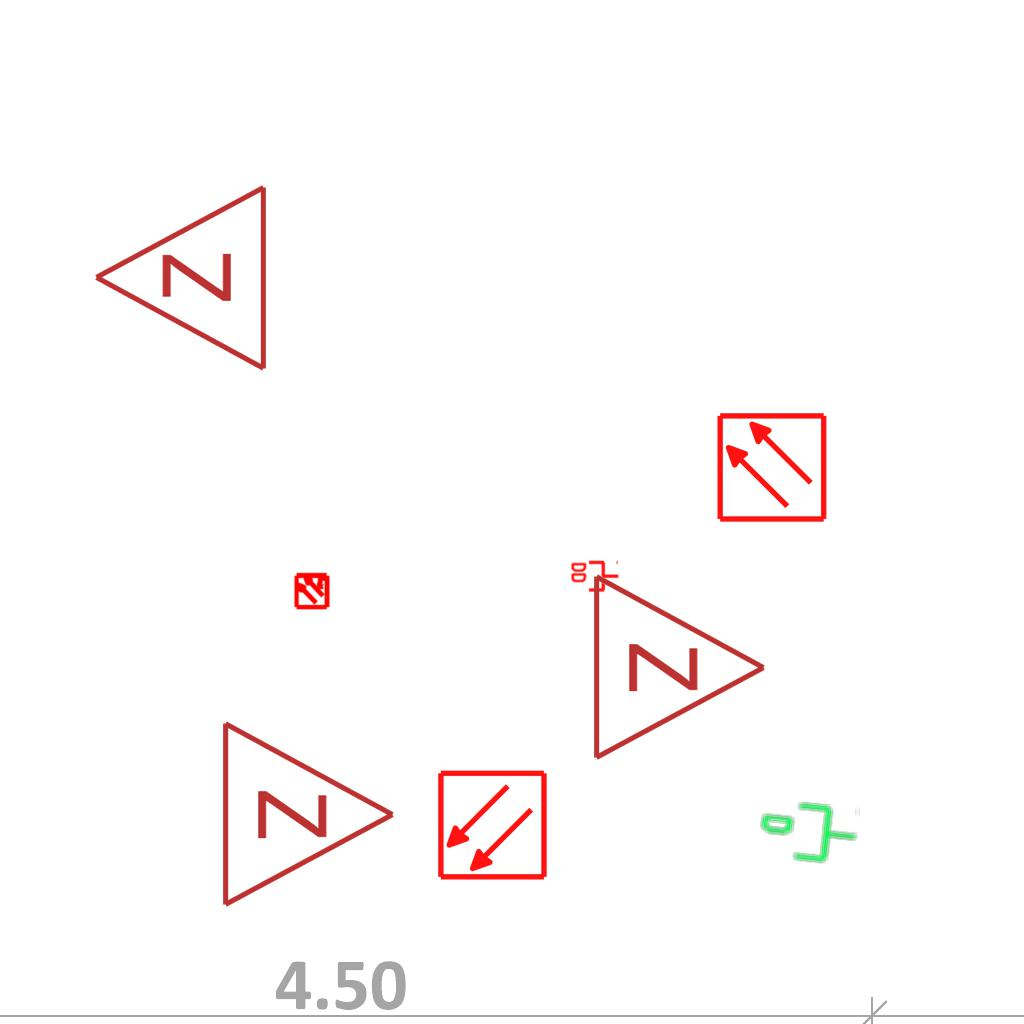Datenanschluss_einfach: (755, 794, 862, 874)
Datenanschluss_zweifach: (569, 560, 620, 594)
OT_Multisensormelder_(Kombination_RMO_WMD): (284, 562, 340, 618)
RMO_Rauchmelder_optischer: (436, 769, 549, 882), (715, 411, 828, 524)
Zimmersignalleuchte: (208, 714, 408, 910), (81, 182, 281, 378), (579, 567, 779, 763)
